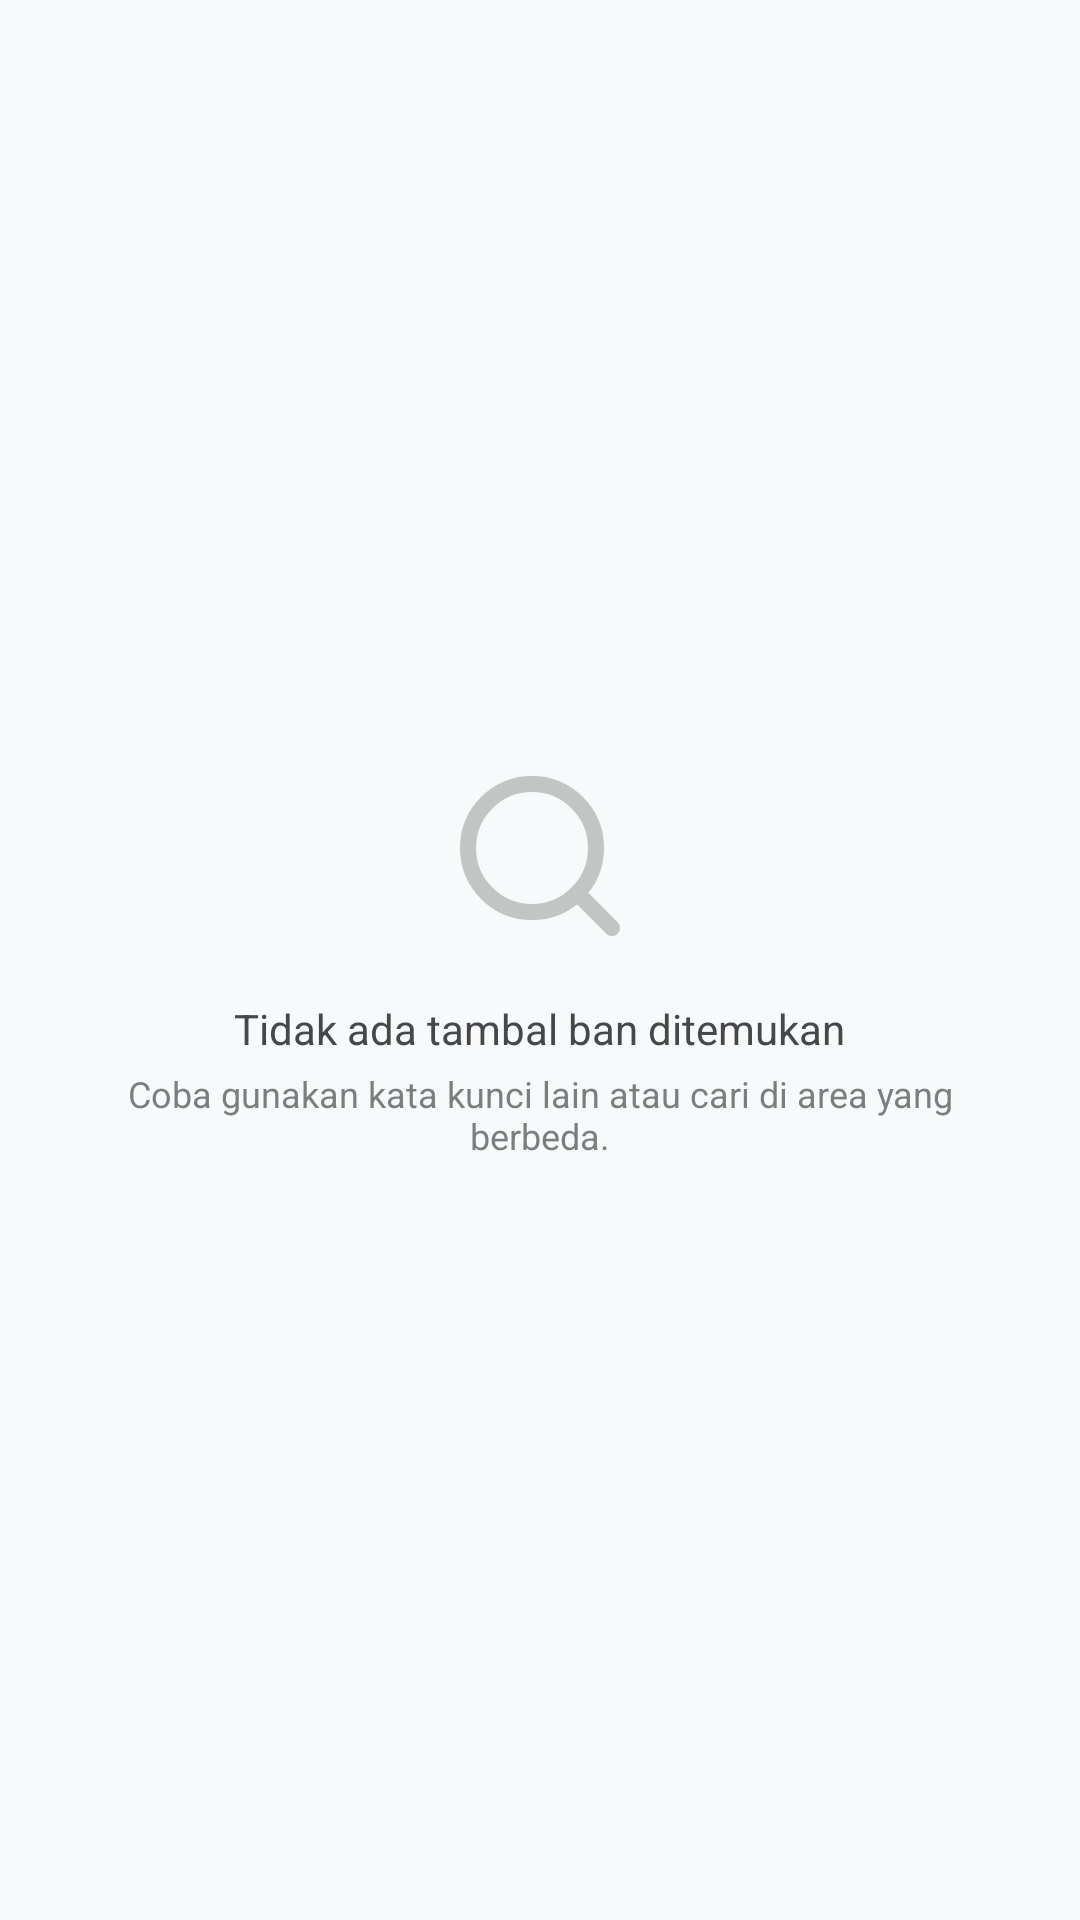

Locate icon controls on the screen. Image size 1080w x 1920h, boxes as bbox=[x1, y1, x2, y2].
search: bbox=[460, 776, 620, 936]
